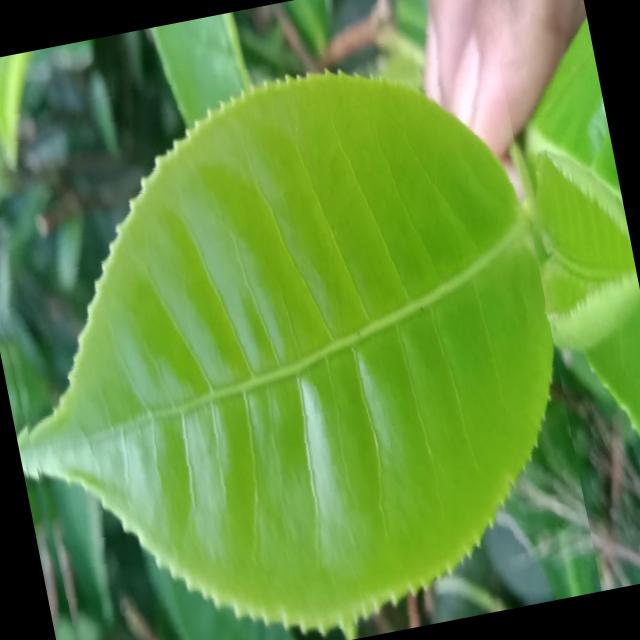Category B 2-4 days: (0, 7, 602, 640)
